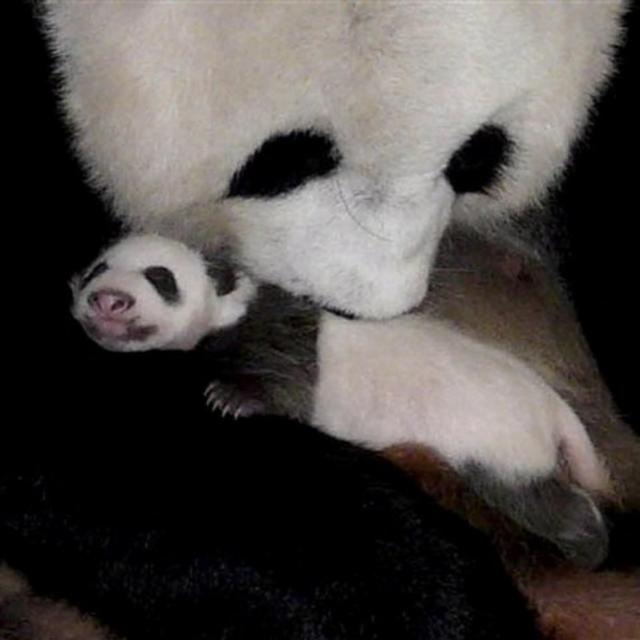panda: (41, 0, 630, 639)
